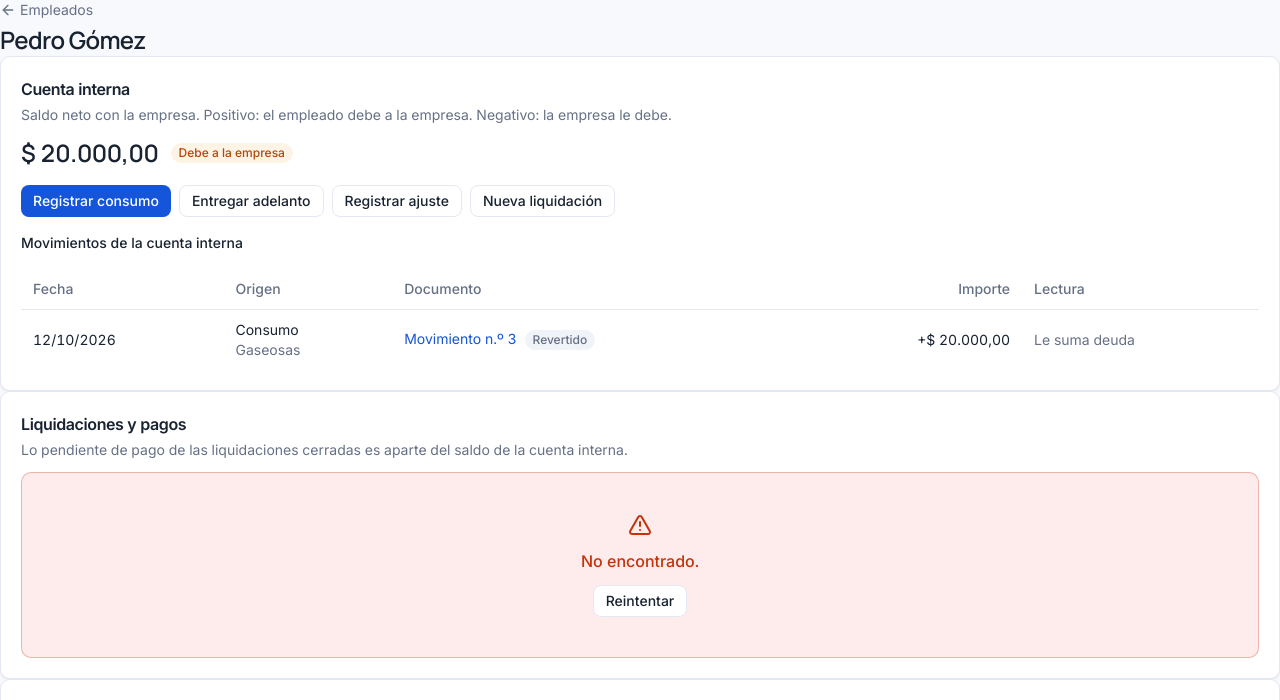
Test: actions on the internal account › an advance is drawn from an active cash box or bank and shows the funds error
This screenshot has width=1280, height=700.
Click the button "Entregar adelanto" at coordinates (251, 201), box 179,185 -> 324,217
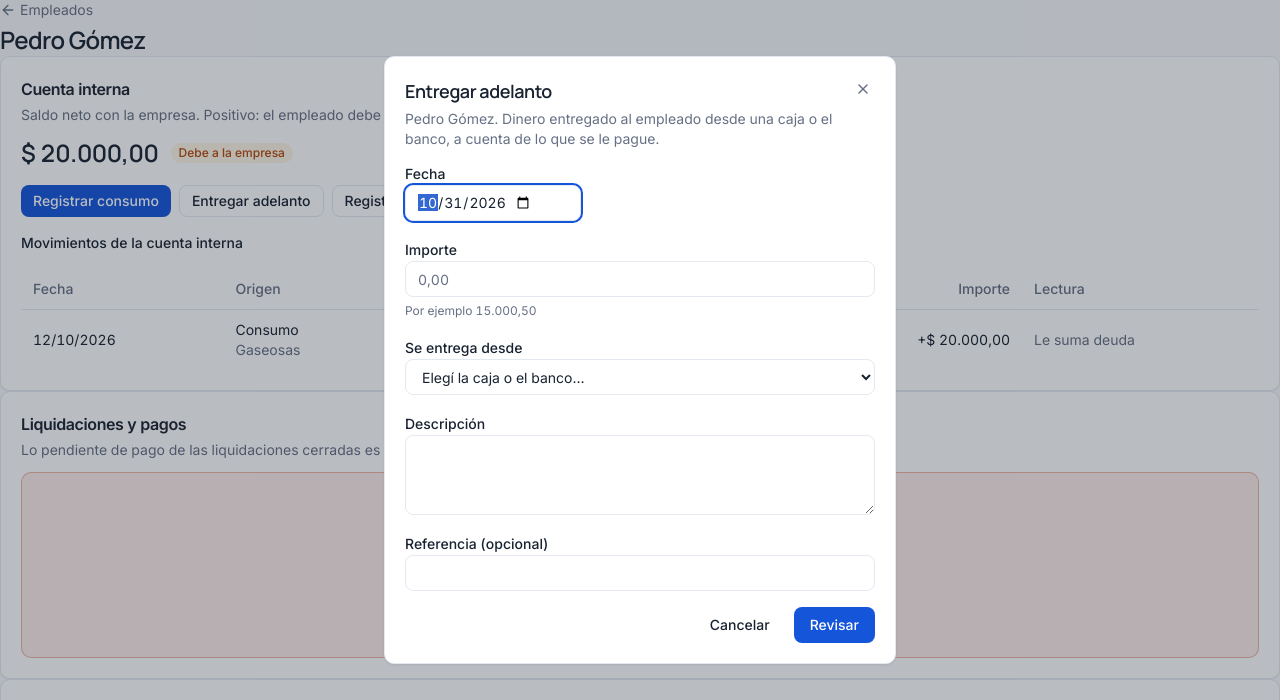
Select "Caja principal · saldo $ 500.000,00" in the dropdown labelled "Se entrega desde" at coordinates (640, 377), box 405,359 -> 875,395
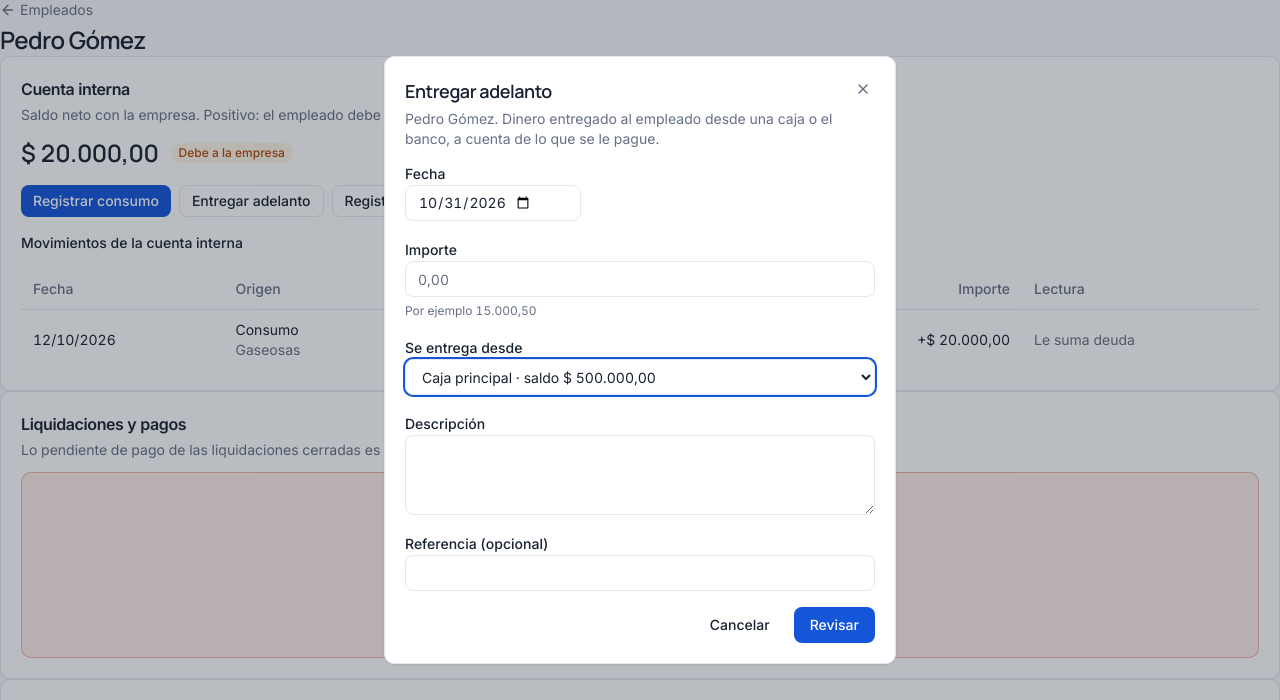
Type "900.000" into the field labelled "Importe" at coordinates (640, 279), box 405,261 -> 875,297
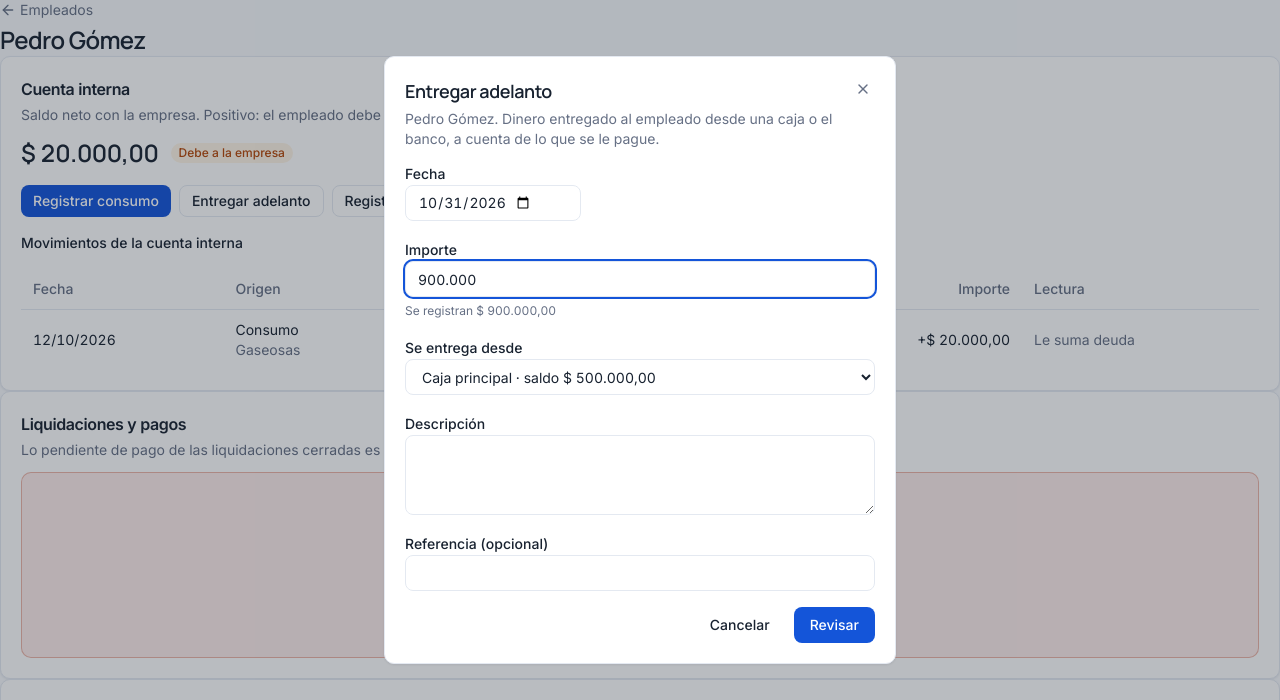
Type "Adelanto" into the text box labelled "Descripción" at coordinates (640, 475), box 405,435 -> 875,515
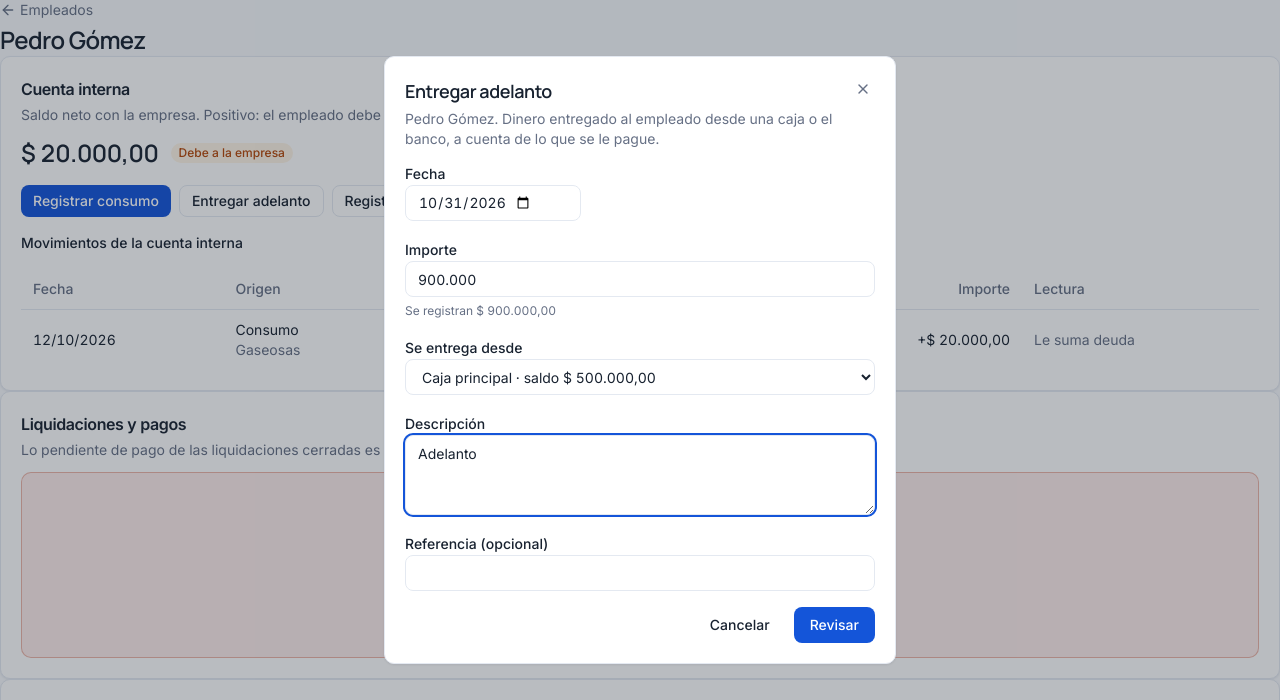
Click the button "Revisar" at coordinates (834, 625), box 794,607 -> 875,643
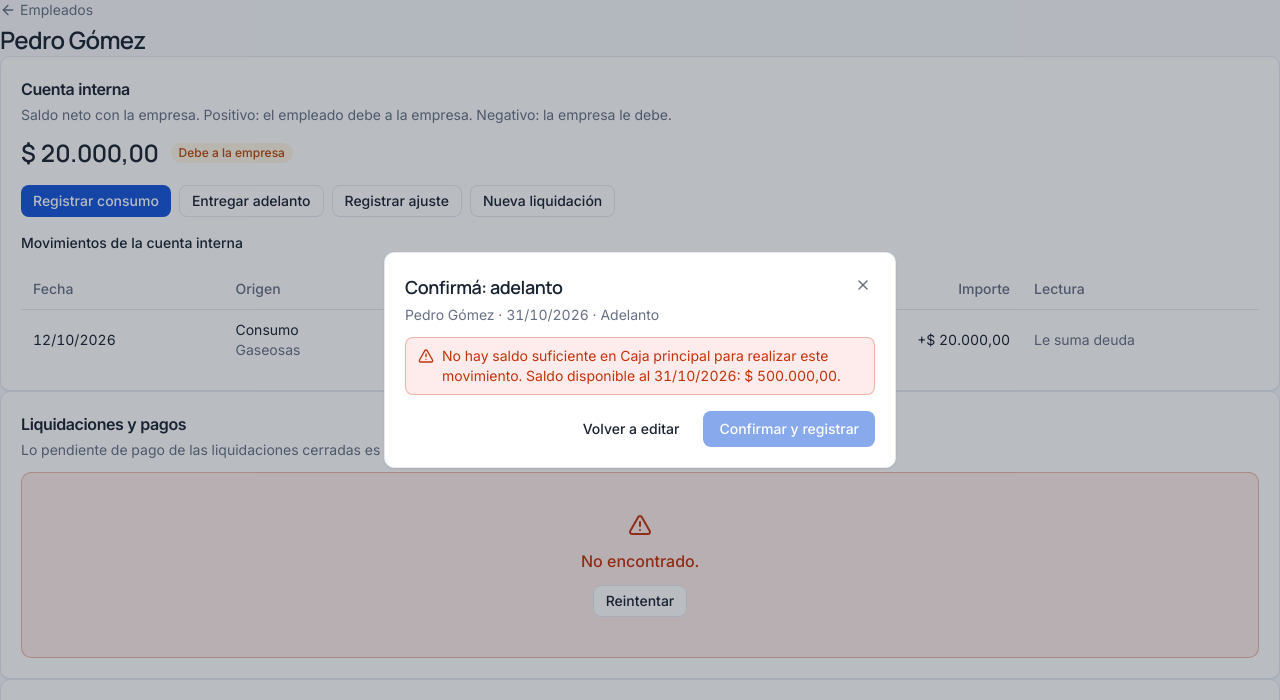
Expected: the text "No hay saldo suficiente en Caja principal" is shown, 442,347 -> 841,384
Expected: the button "Confirmar y registrar" is disabled, 703,411 -> 875,447
